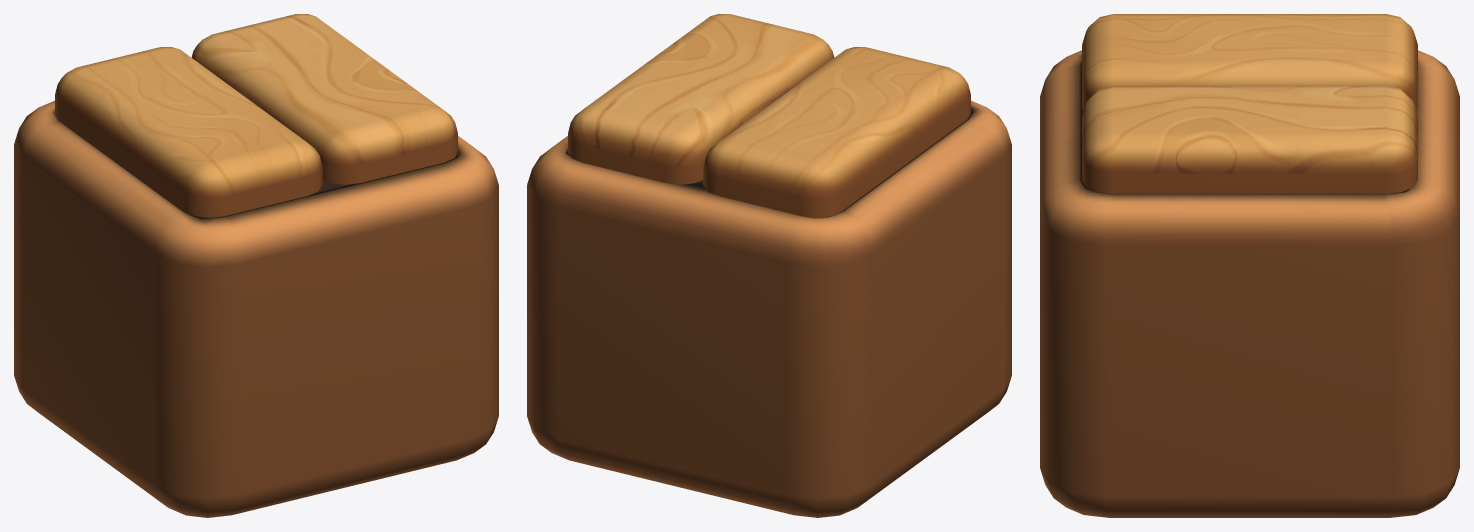
The model's file is WoodenBox_1x1.fbx.
3 renders of one model, left to right at view 1: azimuth 30°, elevation 25°; view 2: azimuth 150°, elevation 25°; view 3: azimuth 270°, elevation 25°, orthographic. The views are drawn at different scales.
Visible parts, largest first — view 1: box1x1; view 2: box1x1; view 3: box1x1.
Boxes of the visible parts, box(x1,y1,x2,y2) form: box1x1: box(14, 14, 498, 517); box1x1: box(527, 14, 1011, 517); box1x1: box(1040, 14, 1459, 517).
Bounding box in the file's own units: 1.03 × 0.9929 × 1.03.
